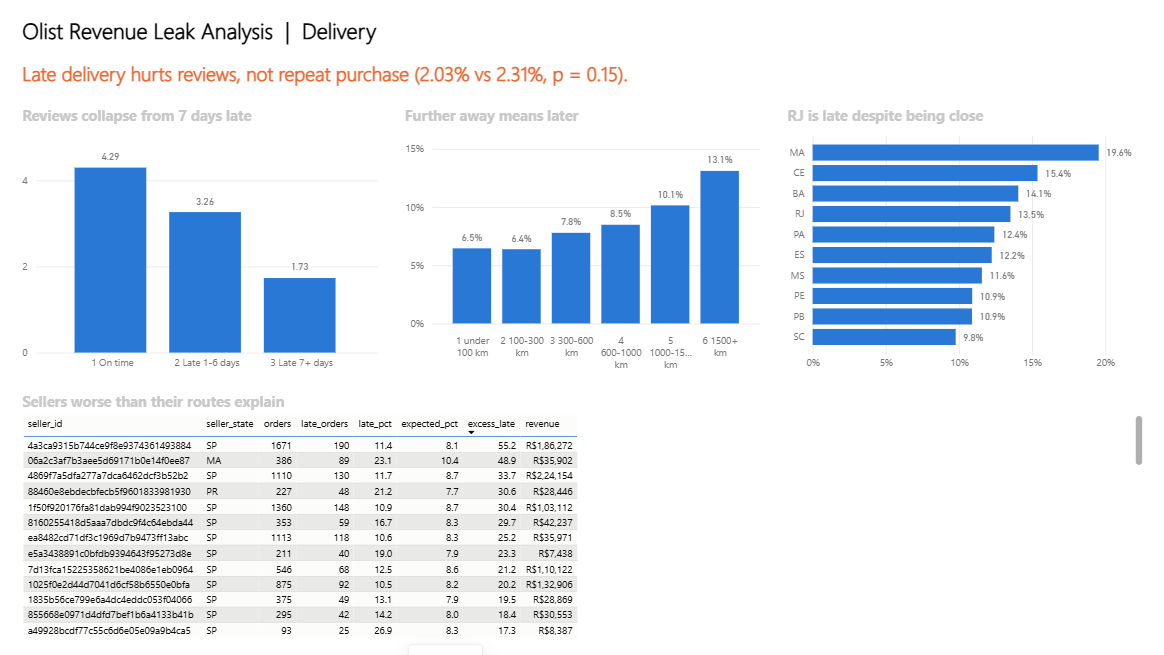

Layout of this report page (visuals, bound fields, positions):
{"tool":"powerbi","page":{"name":"Delivery","canvas":[1280,720],"ordinal":2},"visuals":[{"type":"textbox","box":[20,12,900,44],"z":0},{"type":"textbox","box":[20,60,1240,44],"z":10},{"type":"clusteredColumnChart","title":"Reviews collapse from 7 days late","fields":{"Category":["fact_orders.delivery_bucket"],"Y":["fact_orders.Avg Review"]},"box":[20,115,400,300],"z":20},{"type":"clusteredColumnChart","title":"Further away means later","fields":{"Category":["fact_orders.distance_band"],"Y":["fact_orders.Late Rate Known Distance"]},"box":[440,115,400,300],"z":30},{"type":"clusteredBarChart","title":"RJ is late despite being close","fields":{"Category":["dim_customer.state"],"Y":["fact_orders.Late Rate Top 10 States (500+ orders)"]},"box":[860,115,400,300],"z":40},{"type":"tableEx","title":"Sellers worse than their routes explain","fields":{"Values":["seller_watchlist.seller_id","seller_watchlist.seller_state","seller_watchlist.orders","seller_watchlist.late_orders","seller_watchlist.late_pct","seller_watchlist.expected_pct","seller_watchlist.excess_late","seller_watchlist.revenue"]},"box":[20,430,1240,275],"z":50}]}

Visuals, with their boxes in screenshot pixels (x1, y1, x2, y2), scaled from the page's 1280x720 canvas onto the 1164x655 screenshot:
textbox: detection(18, 11, 837, 51)
textbox: detection(18, 55, 1146, 95)
"Reviews collapse from 7 days late" clusteredColumnChart: detection(18, 105, 382, 378)
"Further away means later" clusteredColumnChart: detection(400, 105, 764, 378)
"RJ is late despite being close" clusteredBarChart: detection(782, 105, 1146, 378)
"Sellers worse than their routes explain" tableEx: detection(18, 391, 1146, 641)
